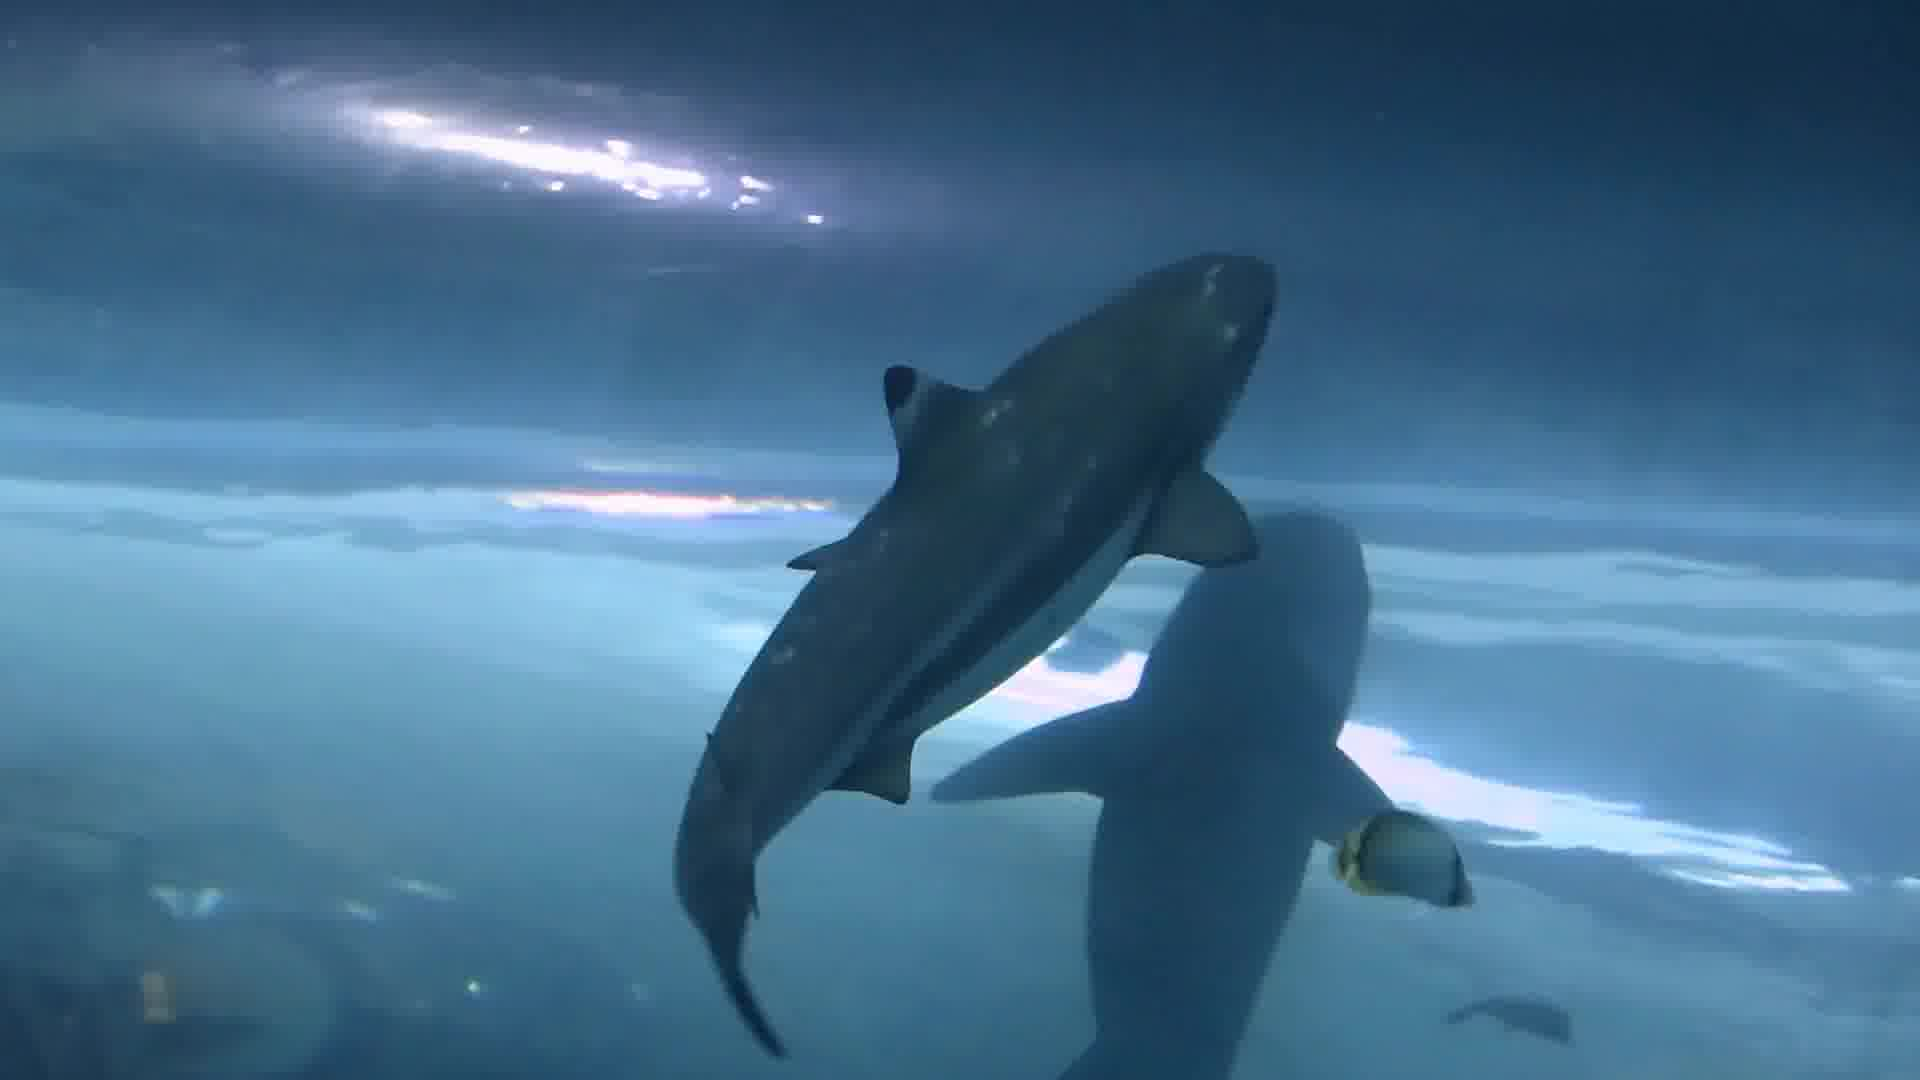Carcharhinus melanopterus: (509, 223, 1406, 1014)
